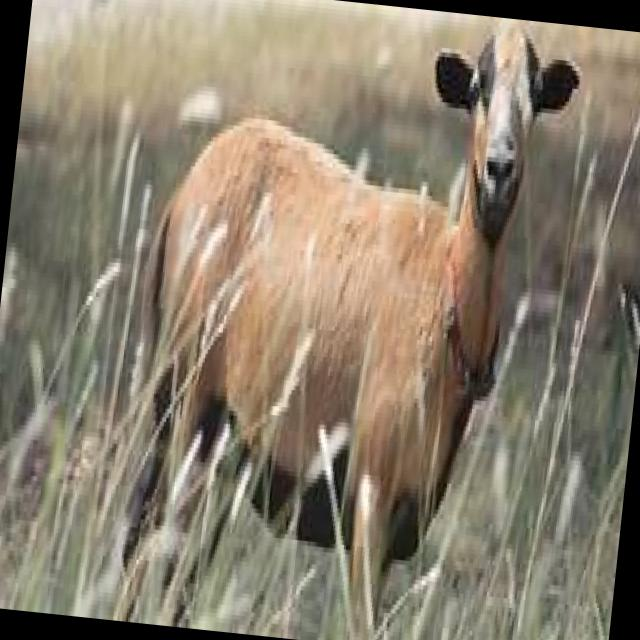animal: (107, 0, 587, 640)
